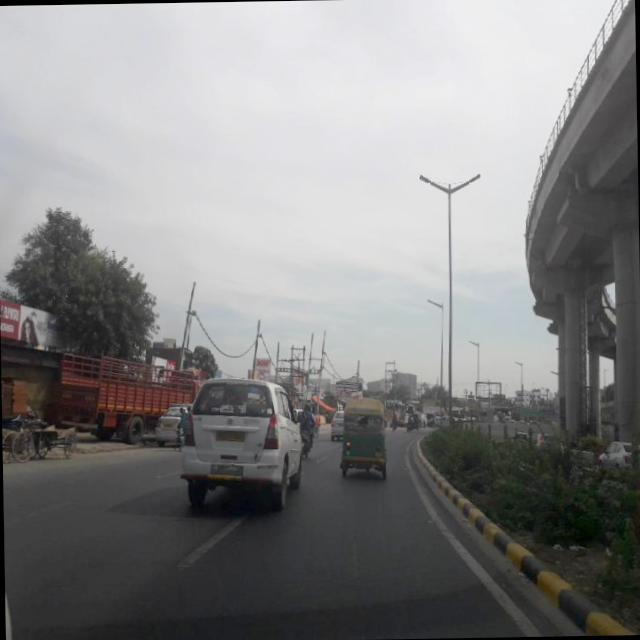pothole: (338, 472, 370, 586)
